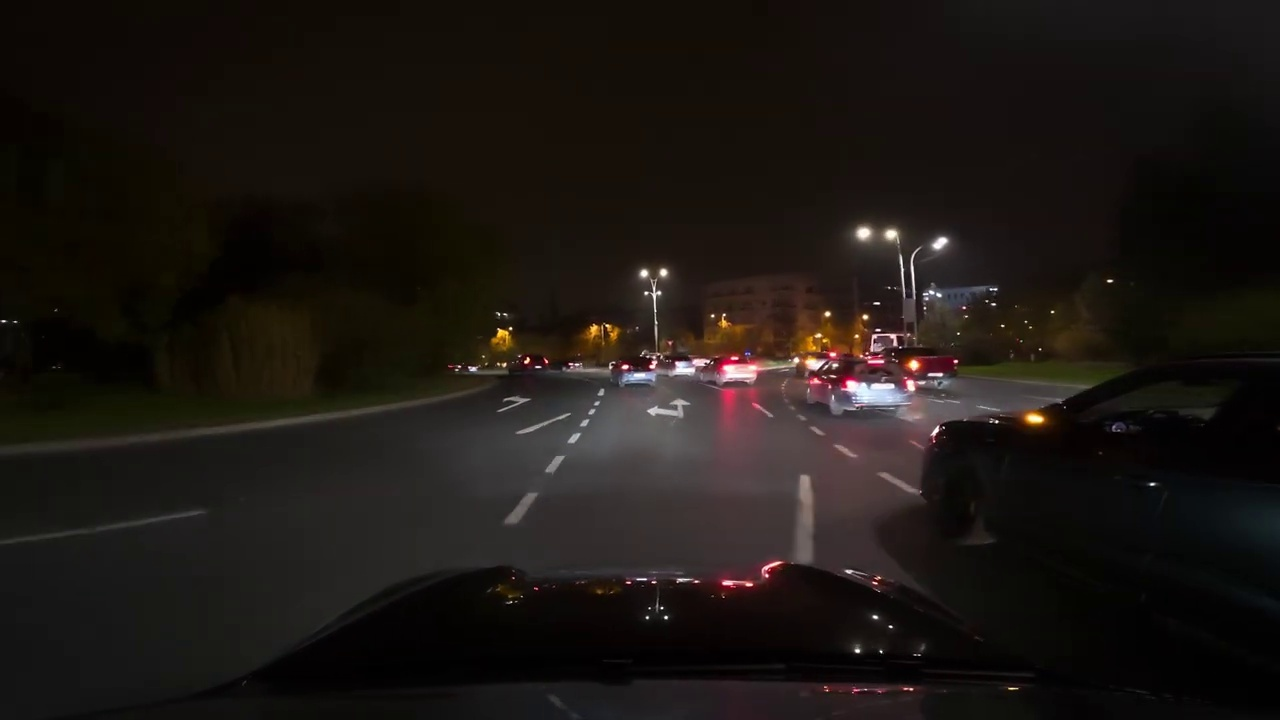acesa: (852, 223, 888, 247), (869, 224, 900, 248), (927, 233, 950, 255)
